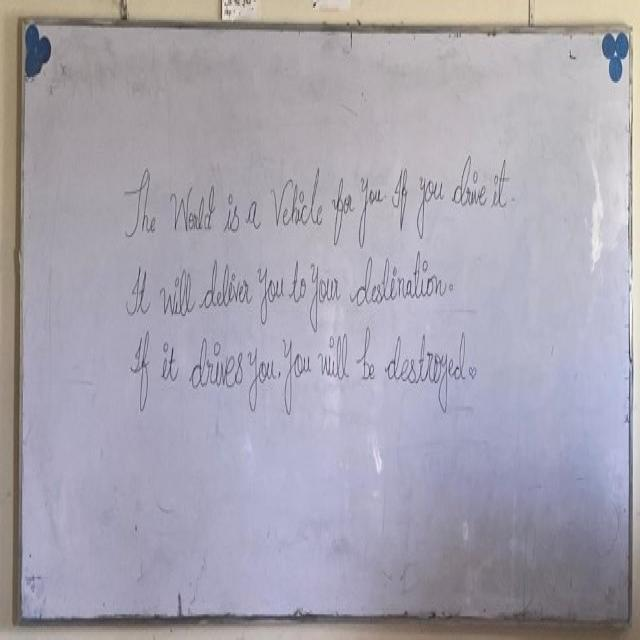White-board: (22, 21, 633, 629)
